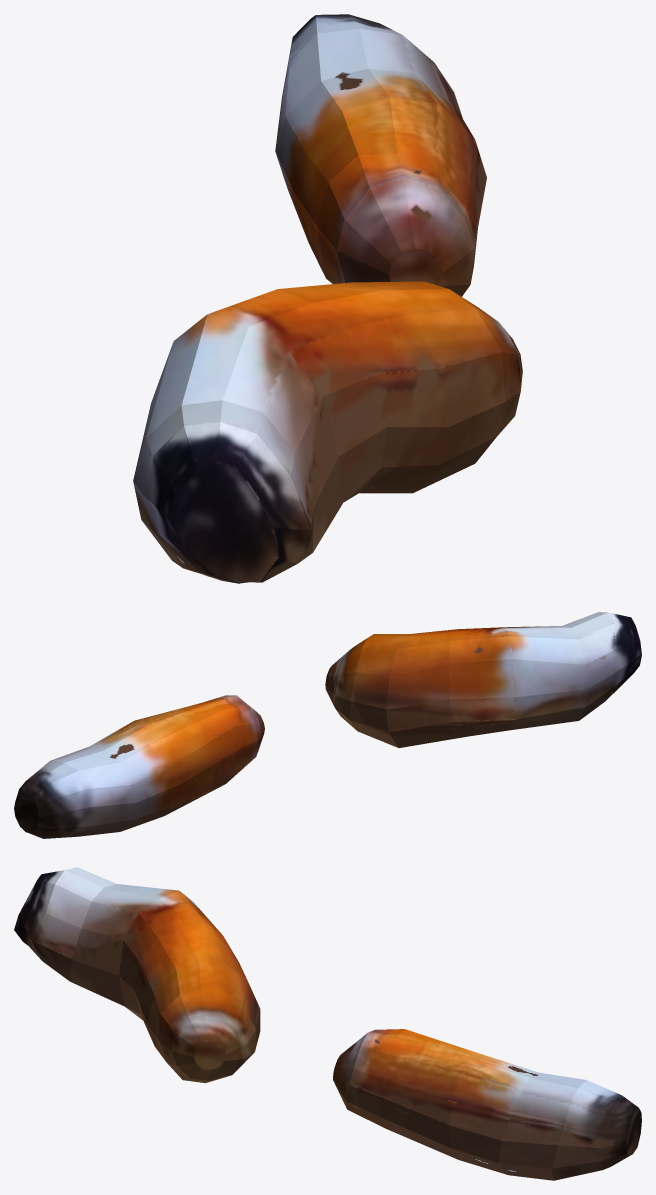
The model's file is Fimapar.fbx.
The picture shows the model from 3 angles, top to bottom: view 1: azimuth 30°, elevation 25°; view 2: azimuth 150°, elevation 25°; view 3: azimuth 270°, elevation 25°; orthographic projection. The views are drawn at different scales.
Parts seen in each view (by area): view 1: Cylinder; view 2: Cylinder; view 3: Cylinder.
Part boxes in pixels (<box>): Cylinder: <box>133,14,522,583</box>; Cylinder: <box>14,612,641,838</box>; Cylinder: <box>14,867,641,1180</box>.
Bounding box in the file's own units: 10.83 × 3.79 × 14.49.
